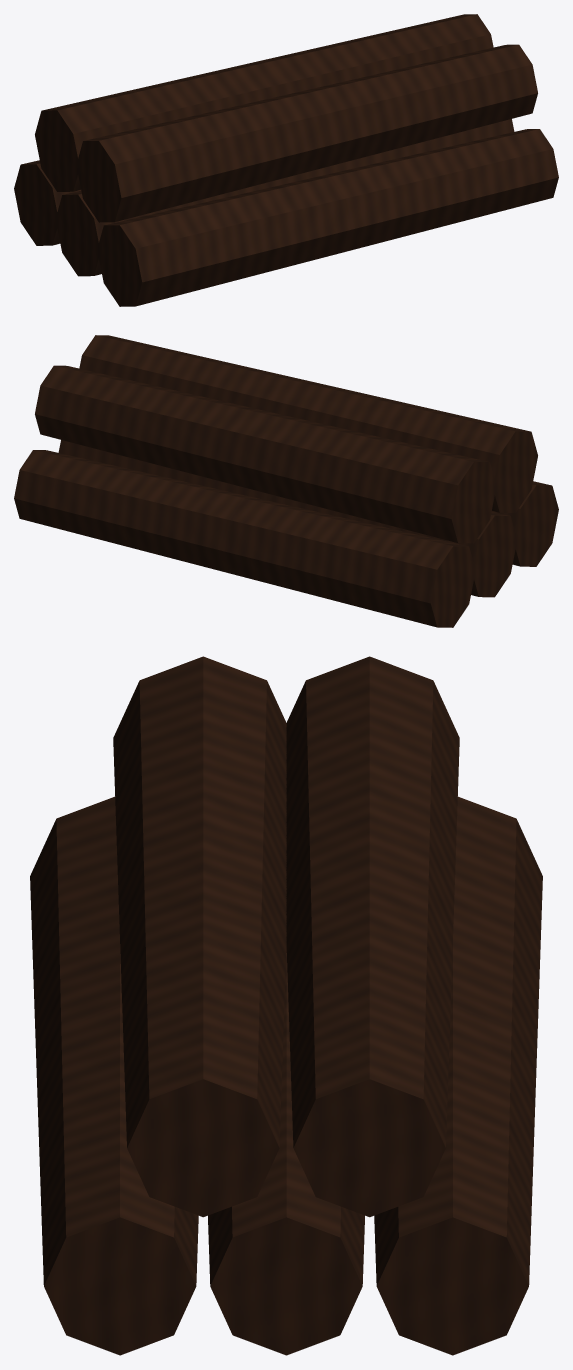
The model's file is module_firewood.glb.
3 renders of one model, top to bottom at view 1: azimuth 30°, elevation 25°; view 2: azimuth 150°, elevation 25°; view 3: azimuth 270°, elevation 25°, orthographic. The views are drawn at different scales.
Visible parts, largest first — view 1: log.003, log, log.004, log.001, log.002; view 2: log.004, log.002, log.003, log.001, log; view 3: log.003, log.004, log, log.002, log.001.
Part boxes in pixels (x1,y1,x2,y2): log.003: [76, 44, 537, 222]; log: [97, 129, 558, 306]; log.004: [35, 14, 493, 191]; log.001: [56, 119, 514, 276]; log.002: [14, 160, 81, 245]; log.004: [35, 365, 494, 543]; log.002: [14, 450, 473, 627]; log.003: [79, 335, 537, 512]; log.001: [58, 440, 515, 597]; log: [491, 481, 558, 566]; log.003: [113, 656, 286, 1217]; log.004: [286, 656, 459, 1217]; log: [30, 796, 198, 1355]; log.002: [374, 796, 542, 1355]; log.001: [208, 943, 364, 1355].
Bounding box in the file's own units: 0.7 × 0.24 × 0.37.
Materials: 1 (1 with a texture image).
